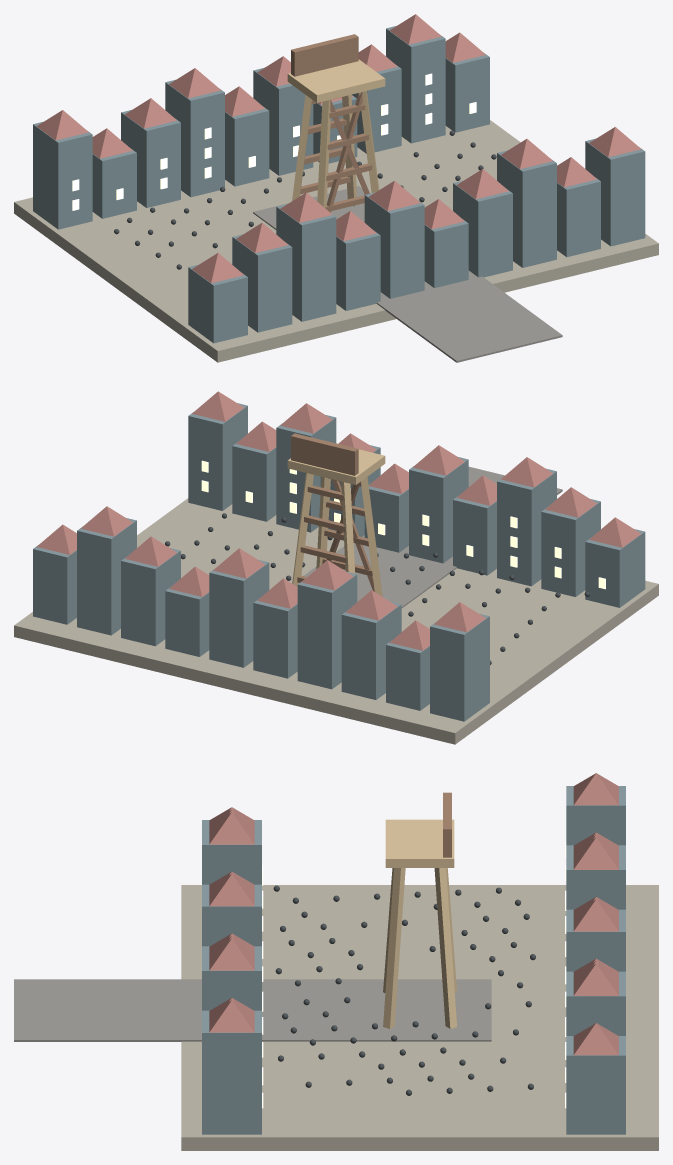
The model's file is loguetown-roger-execution.glb.
3 renders of one model, top to bottom at view 1: azimuth 30°, elevation 25°; view 2: azimuth 150°, elevation 25°; view 3: azimuth 270°, elevation 25°, orthographic. The views are drawn at different scales.
Visible parts, largest first — view 1: Central Square, Main Avenue, Building 2-01, Building 1-03, Building 1-08, Building 2-09, Building 2-04, Building 1-10, Building 1-05, Building 1-02, Building 1-07, Building 2-03 (+36 smaller); view 2: Central Square, Building 2-01, Building 2-04, Building 2-09, Building 1-03, Building 2-06, Building 1-10, Building 1-05, Building 2-03, Building 2-08, Building 1-02, Main Avenue (+35 smaller); view 3: Central Square, Main Avenue, Building 1-10, Building 2-10, Execution deck, Building 1-08, Building 1-03, Building 1-05, Building 2-06, Building 2-01, Building 2-09, Building 2-04 (+12 smaller).
Boxes of the visible parts, <box> form: Central Square: <box>14,120,658,362</box>; Main Avenue: <box>253,186,562,362</box>; Building 2-01: <box>33,121,92,229</box>; Building 1-03: <box>276,204,336,321</box>; Building 1-08: <box>497,150,556,267</box>; Building 2-09: <box>386,26,445,143</box>; Building 2-04: <box>165,79,224,197</box>; Building 1-10: <box>585,138,645,246</box>; Building 1-05: <box>364,192,424,298</box>; Building 1-02: <box>232,234,292,332</box>; Building 1-07: <box>453,180,512,277</box>; Building 2-03: <box>121,110,180,207</box>; Central Square: <box>14,498,658,744</box>; Building 2-01: <box>430,613,489,721</box>; Building 2-04: <box>297,572,357,689</box>; Building 2-09: <box>77,518,136,635</box>; Building 1-03: <box>497,468,556,586</box>; Building 2-06: <box>209,560,269,667</box>; Building 1-10: <box>188,403,247,510</box>; Building 1-05: <box>409,457,468,563</box>; Building 2-03: <box>341,601,401,699</box>; Building 2-08: <box>121,548,180,646</box>; Building 1-02: <box>541,499,600,596</box>; Main Avenue: <box>304,466,562,608</box>; Central Square: <box>181,885,658,1150</box>; Main Avenue: <box>14,979,491,1041</box>; Building 1-10: <box>202,1013,261,1134</box>; Building 2-10: <box>566,1036,625,1134</box>; Execution deck: <box>385,819,454,867</box>; Building 1-08: <box>202,951,261,1010</box>; Building 1-03: <box>202,825,261,884</box>; Building 1-05: <box>202,887,261,946</box>; Building 2-06: <box>566,912,625,971</box>; Building 2-01: <box>566,786,625,845</box>; Building 2-09: <box>566,976,625,1035</box>; Building 2-04: <box>566,850,625,909</box>.
Size of the model in its own units: 20 by 7.9 by 21.6.
